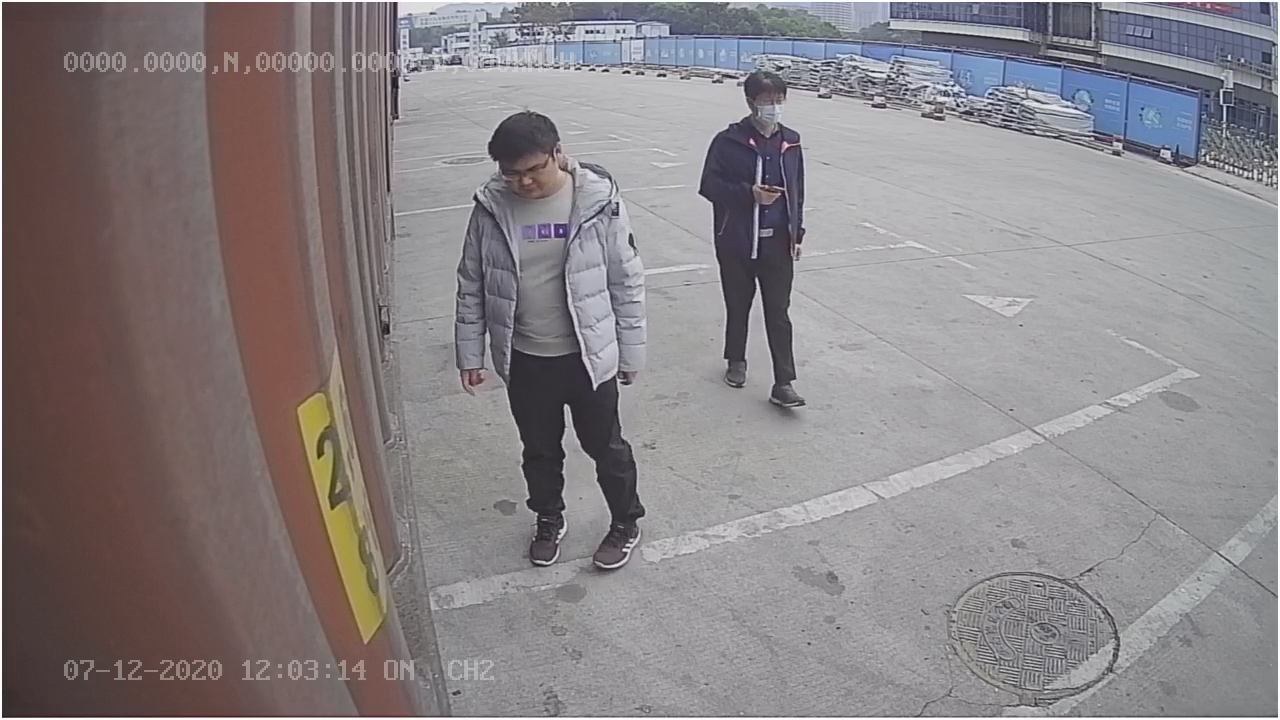person: (452, 109, 652, 575), (696, 58, 812, 412)
